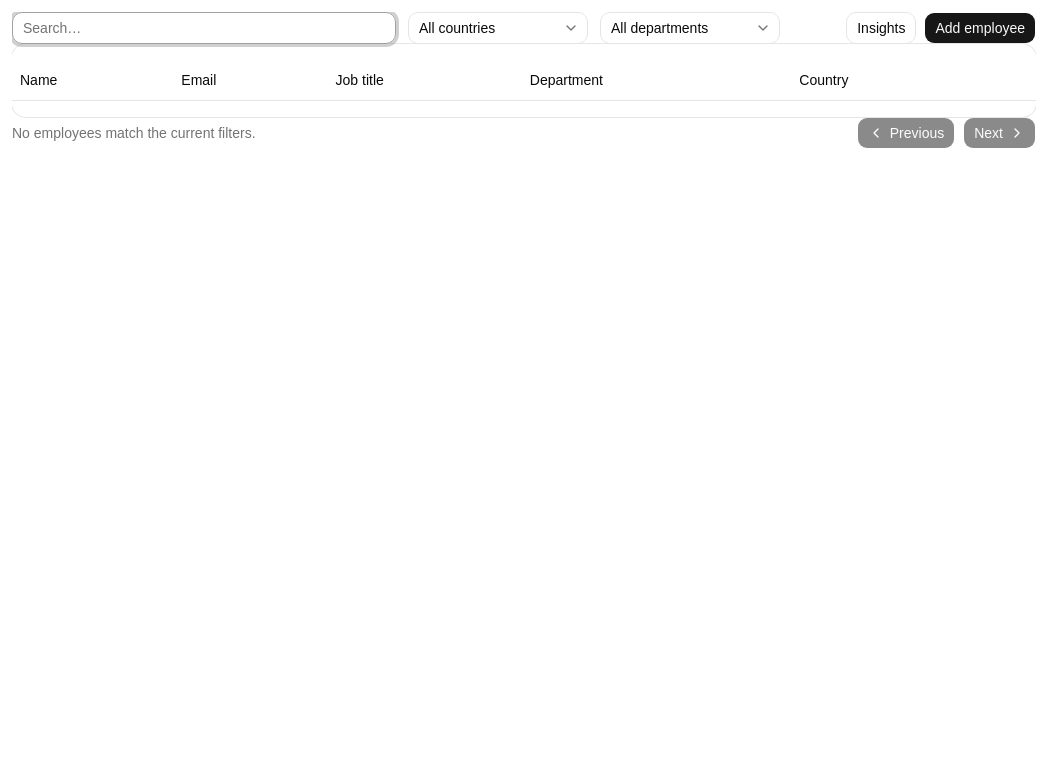
Test: EmployeeListPage › Insights button navigates to insights page
Click the button "Insights": [881, 28] box [846,12,916,44]
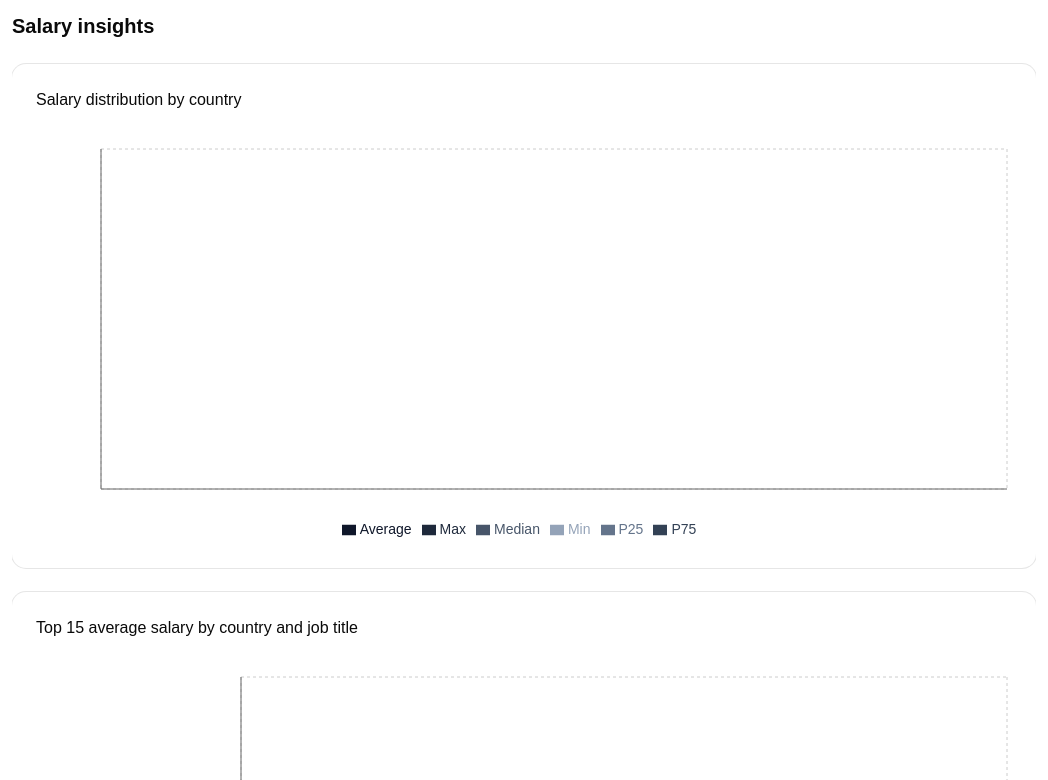
Check: the heading "Salary insights" is shown, box [12,15,154,37]
